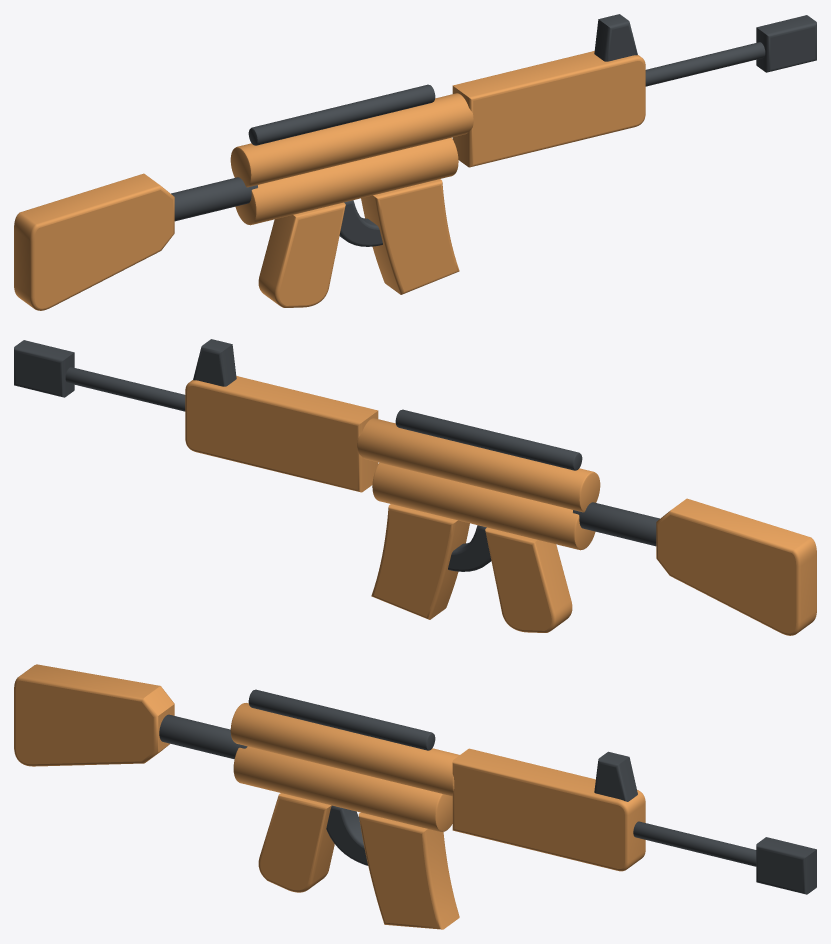
The picture shows the model from 3 angles, top to bottom: view 1: azimuth 30°, elevation 25°; view 2: azimuth 150°, elevation 25°; view 3: azimuth 330°, elevation 25°; orthographic projection.
Parts seen in each view (by area): view 1: paint_8, paint_0, paint_3, paint_2, paint_7, paint_5, metal_4, metal_11, metal_1, metal_10, metal_9, metal_6; view 2: paint_8, paint_0, paint_3, paint_2, paint_7, paint_5, metal_4, metal_11, metal_1, metal_10, metal_9, metal_6; view 3: paint_8, paint_0, paint_3, paint_2, paint_7, paint_5, metal_4, metal_11, metal_1, metal_10, metal_9, metal_6.
Boxes of the visible parts, x1=… form: paint_8: x1=452, y1=51, x2=645, y2=167; paint_0: x1=14, y1=173, x2=174, y2=310; paint_3: x1=230, y1=93, x2=473, y2=187; paint_2: x1=235, y1=137, x2=458, y2=225; paint_7: x1=361, y1=179, x2=459, y2=294; paint_5: x1=258, y1=202, x2=345, y2=307; metal_4: x1=248, y1=84, x2=435, y2=145; metal_11: x1=756, y1=15, x2=816, y2=72; metal_1: x1=171, y1=177, x2=257, y2=221; metal_10: x1=645, y1=42, x2=765, y2=86; metal_9: x1=594, y1=14, x2=637, y2=61; metal_6: x1=339, y1=200, x2=382, y2=246; paint_8: x1=185, y1=376, x2=378, y2=492; paint_0: x1=656, y1=498, x2=816, y2=635; paint_3: x1=357, y1=418, x2=600, y2=512; paint_2: x1=372, y1=462, x2=595, y2=550; paint_7: x1=371, y1=504, x2=469, y2=619; paint_5: x1=485, y1=527, x2=572, y2=632; metal_4: x1=395, y1=409, x2=582, y2=470; metal_11: x1=14, y1=340, x2=74, y2=397; metal_1: x1=573, y1=502, x2=659, y2=546; metal_10: x1=65, y1=367, x2=185, y2=411; metal_9: x1=193, y1=339, x2=236, y2=386; metal_6: x1=448, y1=525, x2=491, y2=571; paint_8: x1=452, y1=748, x2=645, y2=871; paint_0: x1=14, y1=664, x2=174, y2=766; paint_3: x1=230, y1=703, x2=459, y2=796; paint_2: x1=233, y1=746, x2=452, y2=831; paint_7: x1=358, y1=812, x2=459, y2=929; paint_5: x1=258, y1=793, x2=334, y2=892; metal_4: x1=248, y1=689, x2=435, y2=750; metal_11: x1=756, y1=837, x2=816, y2=894; metal_1: x1=159, y1=714, x2=247, y2=759; metal_10: x1=633, y1=821, x2=756, y2=866; metal_9: x1=594, y1=751, x2=637, y2=801; metal_6: x1=326, y1=805, x2=368, y2=865.
Size of the model in its own units: 389 by 101 by 20.
